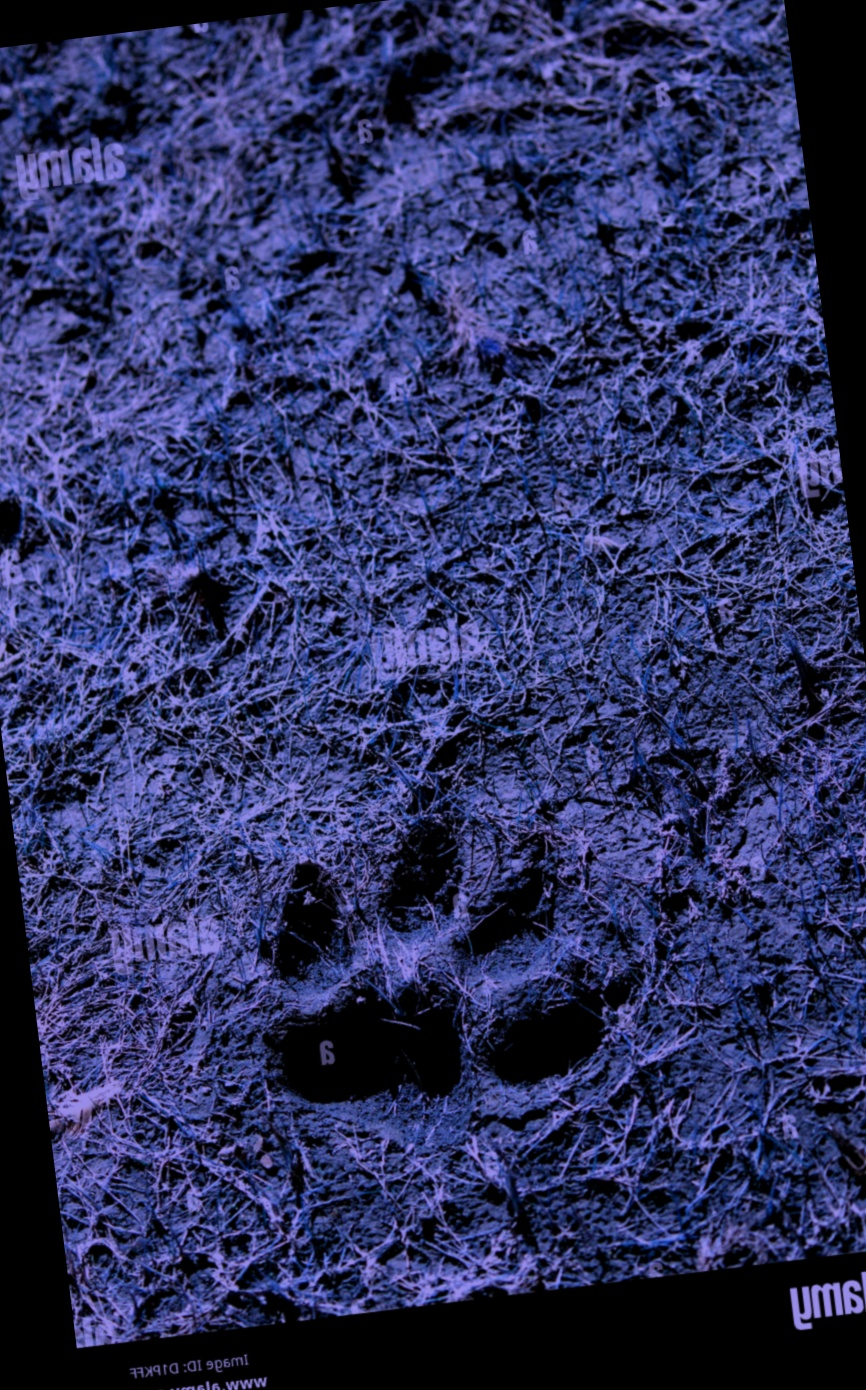loup: (184, 726, 710, 1154)
